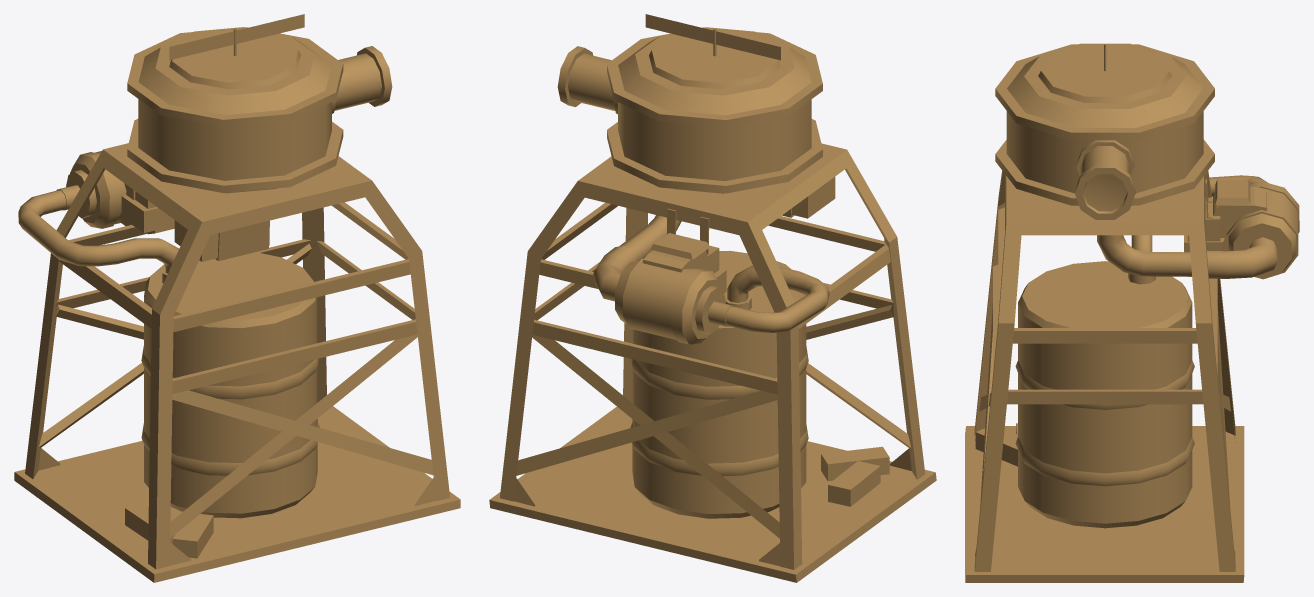
The model's file is SM_TowerA.fbx.
3 views of the same model, side by side, from view 1: azimuth 30°, elevation 25°; view 2: azimuth 150°, elevation 25°; view 3: azimuth 270°, elevation 25° (orthographic).
Parts seen in each view (by area): view 1: SM_TowerA; view 2: SM_TowerA; view 3: SM_TowerA.
Part boxes in pixels (x1,y1,x2,y2): SM_TowerA: (14, 14, 460, 582); SM_TowerA: (489, 14, 936, 582); SM_TowerA: (965, 43, 1299, 582).
Bounding box in the file's own units: 108 × 157 × 102.
